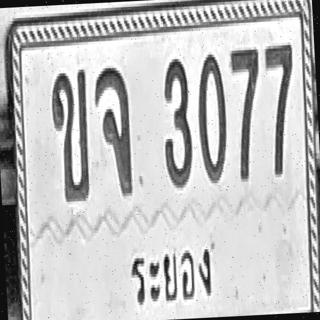A02: (50, 68, 92, 201)
A08: (93, 64, 134, 198)
N00: (195, 51, 229, 184)
N03: (160, 56, 194, 188)
N07: (229, 47, 264, 182), (264, 42, 298, 174)
P53: (124, 231, 215, 308)
